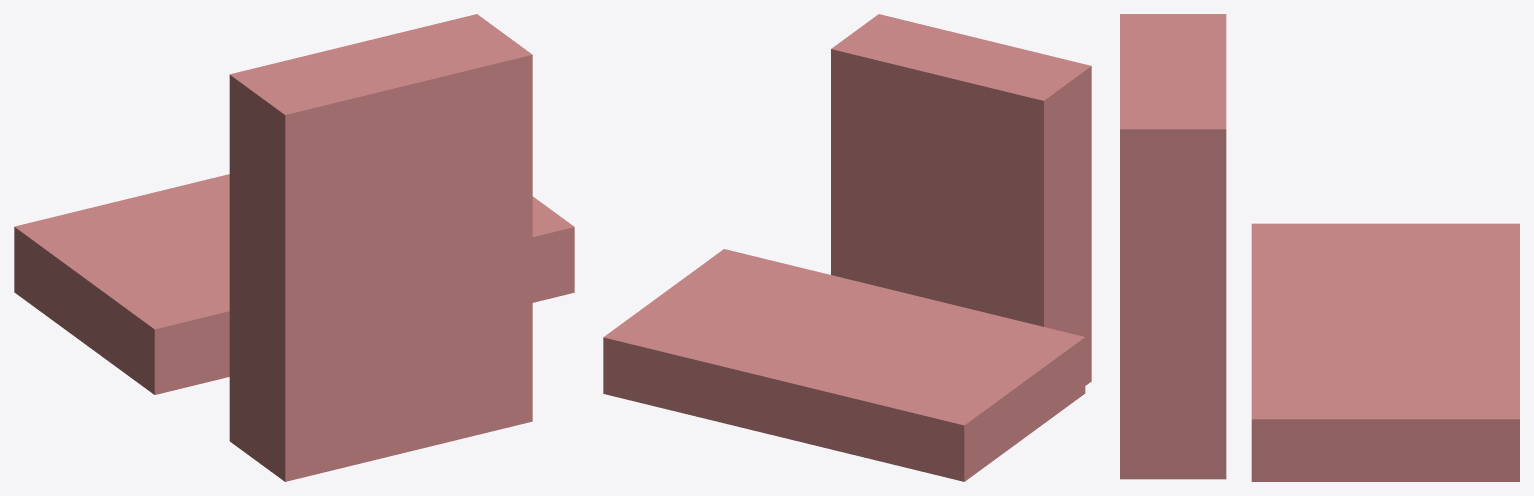
The model's file is 199500_occ.glb.
The picture shows the model from 3 angles, left to right: view 1: azimuth 30°, elevation 25°; view 2: azimuth 150°, elevation 25°; view 3: azimuth 270°, elevation 25°; orthographic projection. The views are drawn at different scales.
Parts seen in each view (by area): view 1: world; view 2: world; view 3: world.
Boxes of the visible parts, left/top/right/bottom form: world: left=14, top=14, right=574, bottom=481; world: left=603, top=14, right=1091, bottom=481; world: left=1120, top=14, right=1519, bottom=481.
Bounding box in the file's own units: 3.3 × 2.76 × 2.85.
